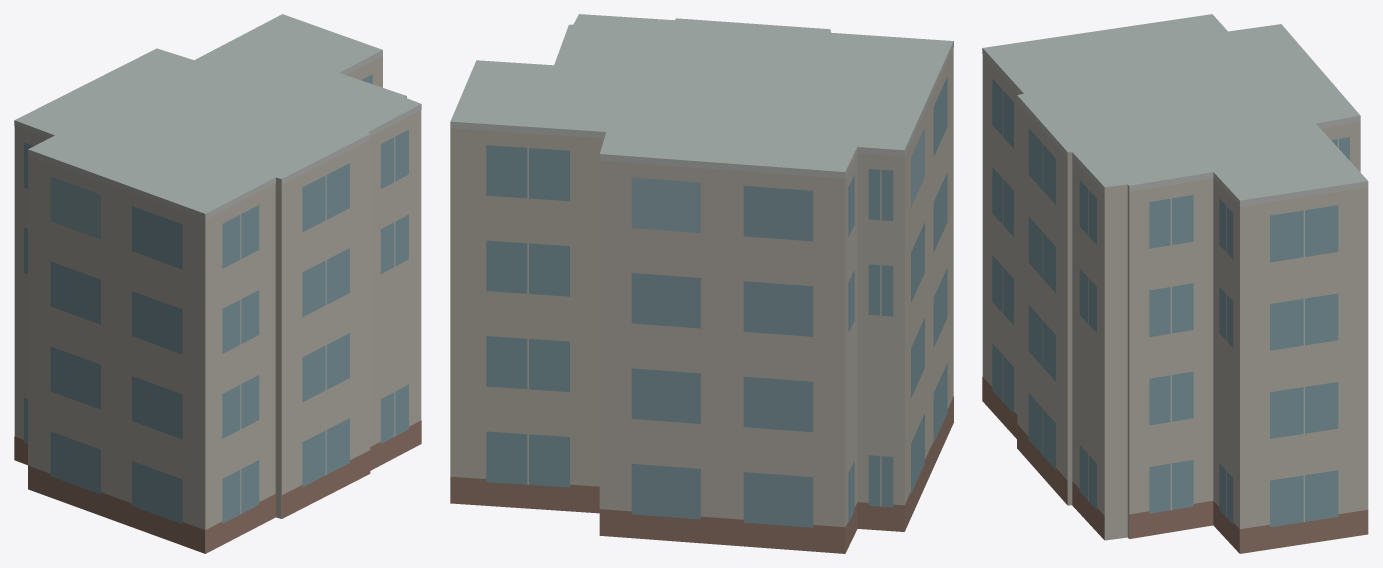
The model's file is survey-upis-32987927.glb.
3 renders of one model, left to right at view 1: azimuth 30°, elevation 25°; view 2: azimuth 150°, elevation 25°; view 3: azimuth 270°, elevation 25°, orthographic. The views are drawn at different scales.
Parts seen in each view (by area): view 1: survey-upis-32987927.tmp; view 2: survey-upis-32987927.tmp; view 3: survey-upis-32987927.tmp.
Part boxes in pixels (x1,y1,x2,y2): survey-upis-32987927.tmp: (14, 14, 421, 553); survey-upis-32987927.tmp: (450, 14, 953, 553); survey-upis-32987927.tmp: (982, 14, 1368, 553).
Size of the model in its own units: 15.85 by 13.98 by 13.85.
